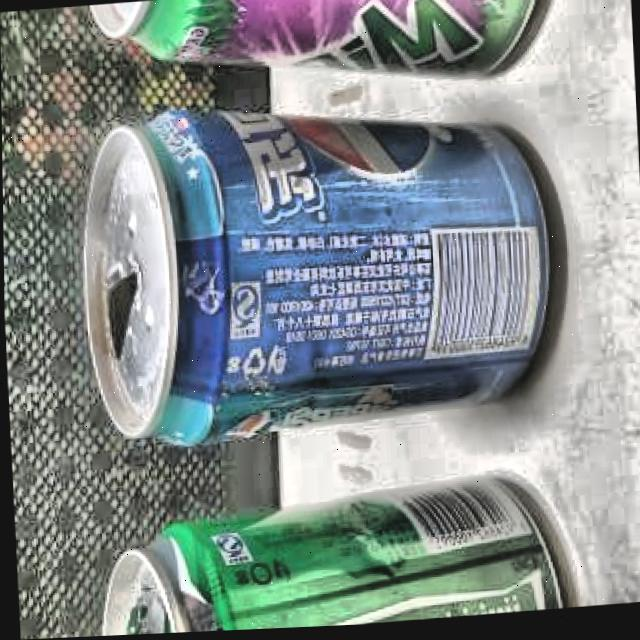metal: (62, 78, 572, 456), (76, 467, 582, 638), (63, 0, 580, 121)
